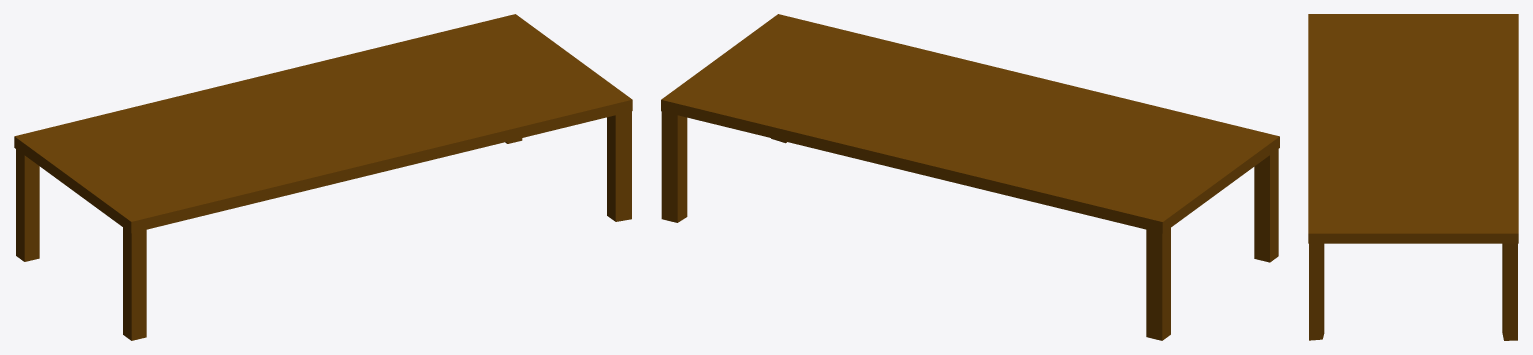
Rendered from table.gltf.
3 views of the same model, side by side, from view 1: azimuth 30°, elevation 25°; view 2: azimuth 150°, elevation 25°; view 3: azimuth 270°, elevation 25° (orthographic). The views are drawn at different scales.
Visible parts, largest first — view 1: Cube; view 2: Cube; view 3: Cube.
Part boxes in pixels (x1,y1,x2,y2): Cube: (14,14,632,340); Cube: (661,14,1279,340); Cube: (1308,14,1518,340).
Bounding box in the file's own units: 9.76 × 2.24 × 3.95.
